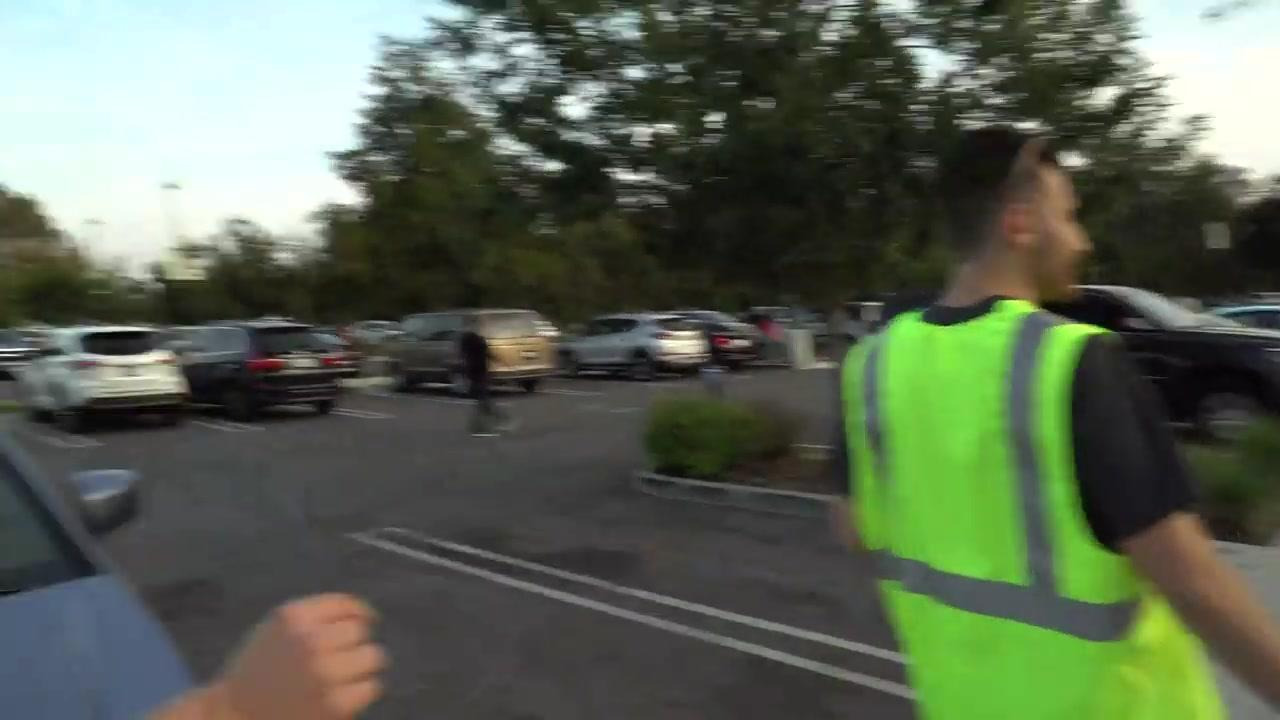vest: (841, 300, 1232, 719)
